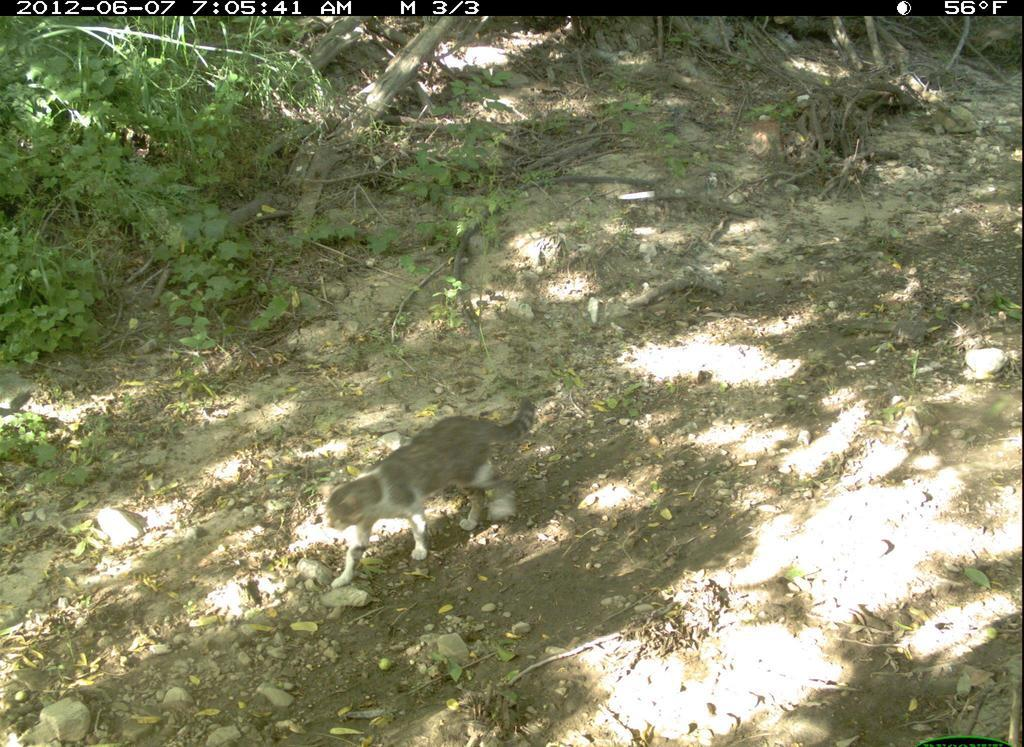cat: (281, 382, 542, 597)
